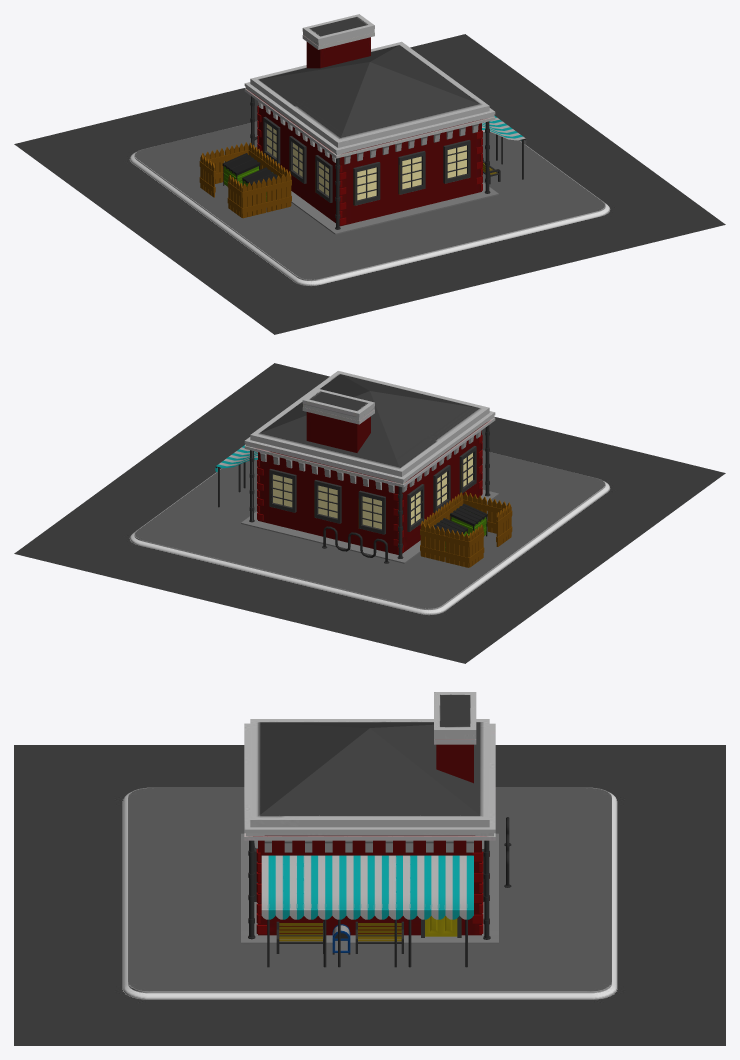
The model's file is low_poly_restaurant_building.glb.
3 views of the same model, one above another, from view 1: azimuth 30°, elevation 25°; view 2: azimuth 150°, elevation 25°; view 3: azimuth 270°, elevation 25° (orthographic). The views are drawn at different scales.
Parts seen in each view (by area): view 1: polySurface646 (×4), pCube211, pCube210, pCube191, pCube212, pCube213; view 2: polySurface646 (×4), pCube204, pCube205, pCube209, pCube213, pCube212, pCylinder50; view 3: polySurface646 (×5).
Part boxes in pixels (box(x1,y1,x2,y2)): polySurface646 (×4): box(14, 14, 725, 334); pCube211: box(242, 179, 266, 218); pCube210: box(266, 173, 291, 212); pCube191: box(222, 153, 260, 186); pCube212: box(199, 154, 215, 197); pCube213: box(227, 175, 242, 217); polySurface646 (×4): box(14, 363, 725, 663); pCube204: box(444, 528, 469, 567); pCube205: box(420, 522, 445, 561); pCube209: box(450, 503, 487, 536); pCube213: box(496, 504, 511, 546); pCube212: box(469, 524, 484, 567); pCylinder50: box(322, 526, 389, 563); polySurface646 (×5): box(14, 692, 725, 1045).
Bounding box in the file's own units: 22.06 × 6.36 × 22.06.
9 materials, 9 textured.
